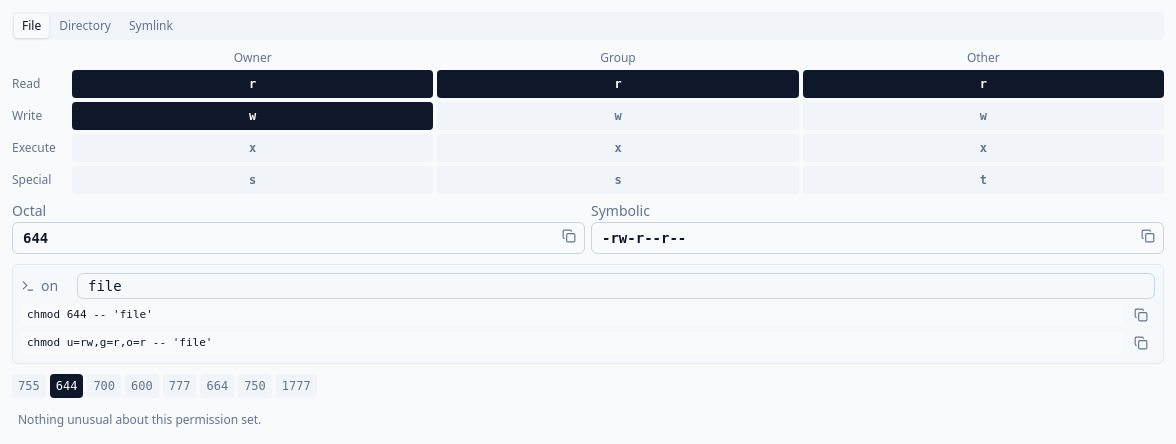
it: UnixPermissionsWidget › typing a symbolic value updates the file type and checkboxes
This screenshot has width=1176, height=444.
Replace the text in the field labelled "Symbolic" with "drwxr-xr-x" at (878, 238), box [591,222,1164,254]
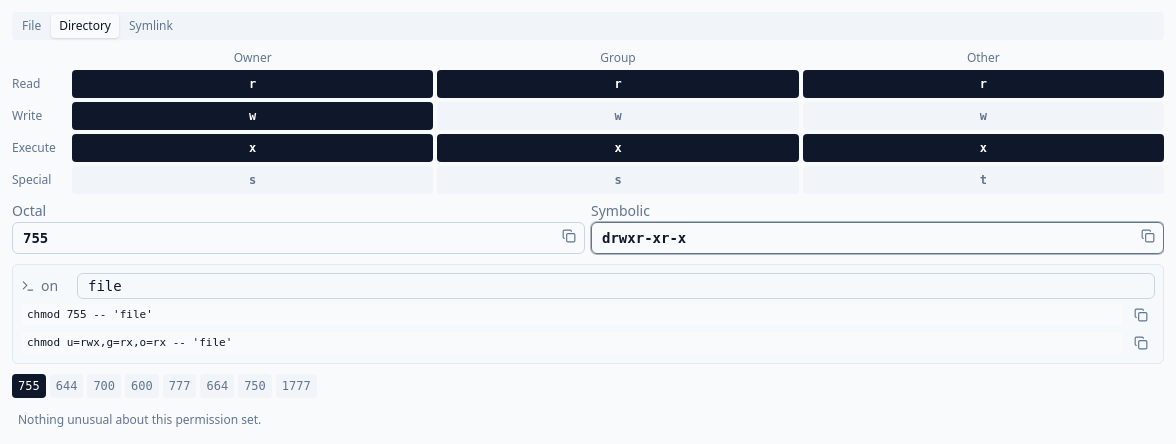
Check: the field labelled "Octal" holds "755", box [12,222,585,254]
